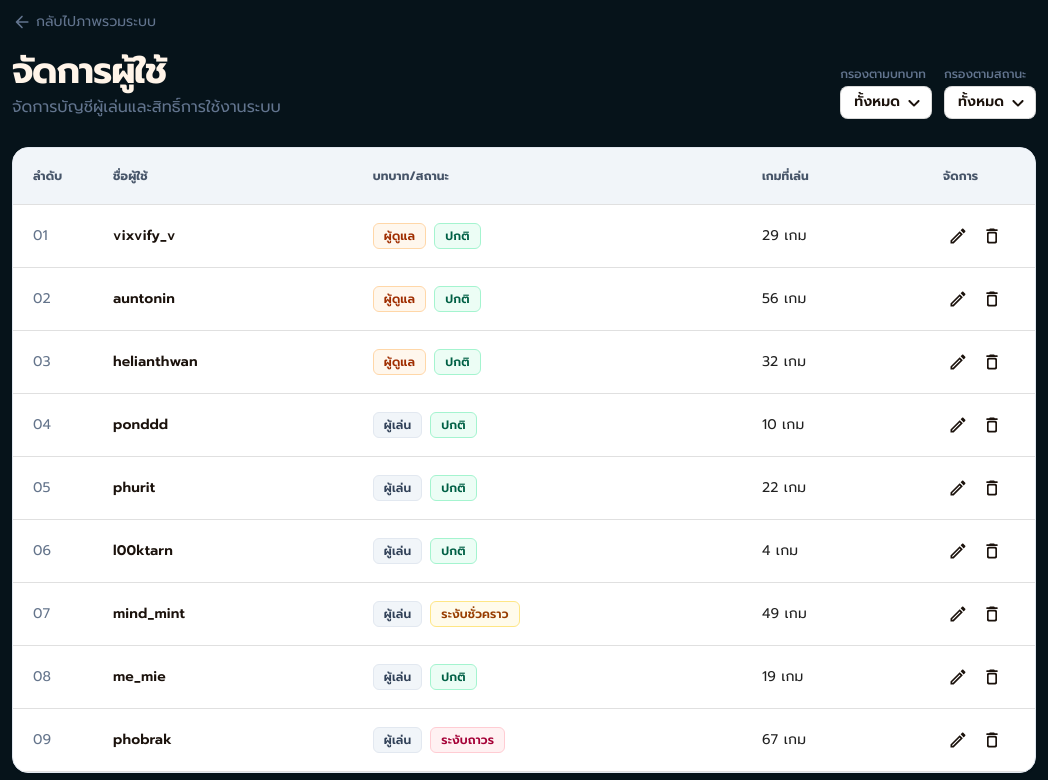
Scenario: admin users › filters the results over HTTP without navigating away
Press the mouse on the dropdown named "กรองตามบทบาท" at coordinates (877, 102), box [854, 92, 900, 112]
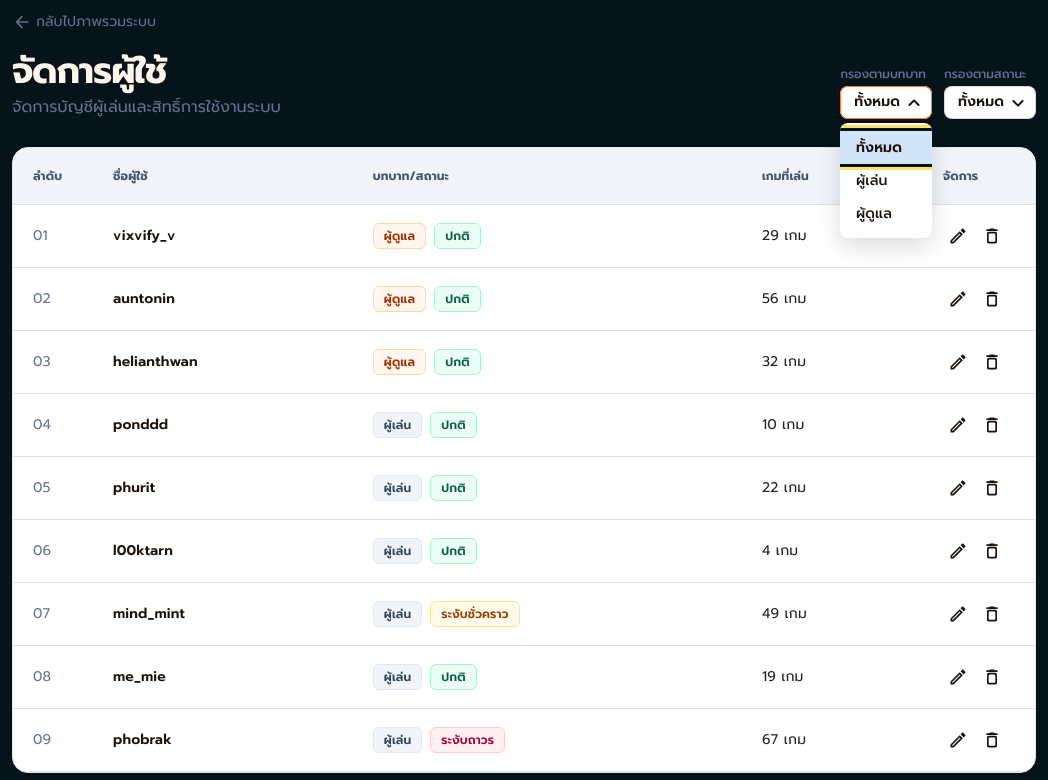
Click the option "ผู้ดูแล" at coordinates (874, 214), box [856, 203, 892, 224]
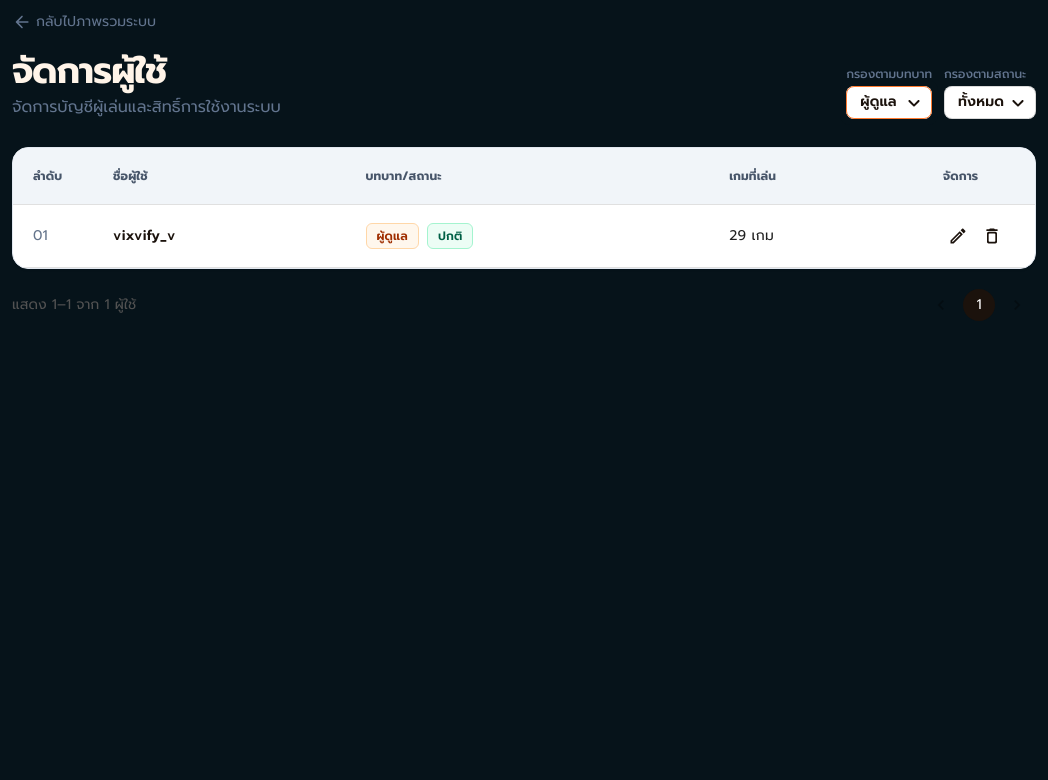
Expected: the table named "รายชื่อผู้ใช้" shows "vixvify_v", [113, 225, 176, 246]
Now the cell "รายชื่อผู้ใช้" no longer shows "ponddd"
